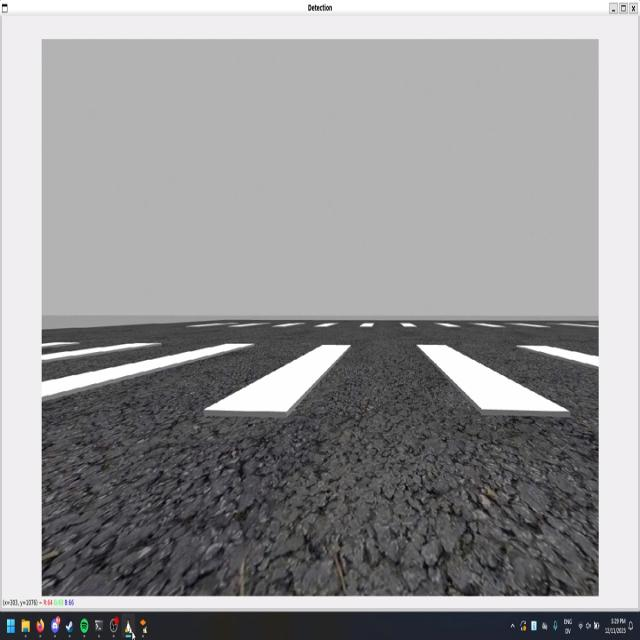crosswalk: (42, 341, 598, 418)
